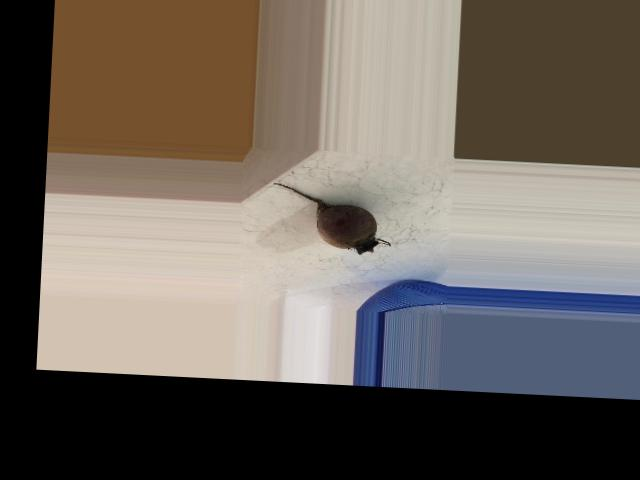beet: (270, 182, 392, 255)
